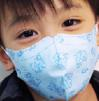with_mask: (2, 1, 99, 101)
